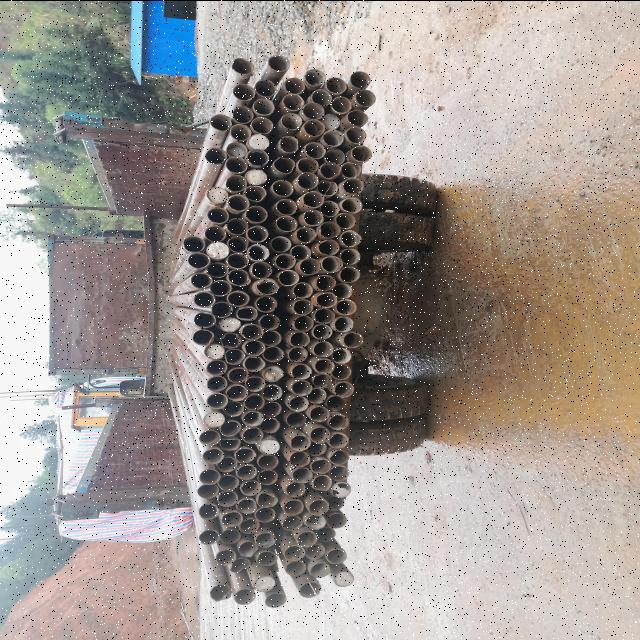pipe: (297, 578, 322, 598), (208, 112, 232, 132), (250, 114, 274, 134), (279, 110, 303, 130), (206, 240, 230, 260), (326, 430, 350, 450), (208, 582, 232, 602), (254, 277, 280, 295), (255, 436, 281, 454), (225, 173, 248, 193), (250, 259, 273, 279), (215, 546, 238, 566), (206, 185, 230, 204), (225, 216, 249, 235), (242, 392, 266, 411), (252, 573, 276, 592), (232, 586, 256, 605), (186, 250, 211, 268), (217, 314, 242, 332), (354, 87, 376, 107), (278, 134, 300, 154), (254, 77, 277, 96), (271, 178, 294, 197), (230, 56, 254, 74), (267, 53, 291, 71), (232, 82, 256, 100), (281, 92, 305, 110), (324, 76, 348, 94), (252, 97, 276, 115), (228, 122, 252, 140), (301, 101, 325, 119), (246, 132, 270, 150), (302, 118, 326, 136), (224, 155, 248, 173), (246, 148, 270, 166), (272, 156, 296, 174), (339, 160, 363, 178), (226, 194, 250, 212), (244, 184, 268, 202), (301, 189, 325, 207), (203, 224, 227, 242), (245, 224, 269, 242), (182, 234, 206, 252), (294, 225, 318, 243), (226, 251, 250, 269), (227, 268, 251, 286), (276, 268, 300, 286), (192, 290, 216, 308), (254, 294, 278, 312), (314, 290, 338, 308), (334, 297, 358, 315), (193, 310, 217, 328), (191, 328, 215, 346), (240, 322, 264, 340), (242, 338, 266, 356), (242, 354, 266, 372), (261, 364, 285, 382), (226, 383, 250, 401), (205, 391, 229, 409), (260, 382, 284, 400), (241, 409, 265, 427), (198, 428, 222, 446), (201, 446, 225, 464), (198, 467, 222, 485), (239, 478, 263, 496), (256, 490, 280, 508), (220, 509, 244, 527), (228, 555, 252, 573), (255, 548, 279, 566), (282, 542, 306, 560), (284, 558, 308, 576), (263, 590, 287, 608), (316, 238, 341, 255), (284, 75, 306, 94), (304, 140, 326, 159), (303, 68, 326, 86), (205, 146, 228, 164), (225, 140, 248, 158), (296, 171, 319, 189), (342, 176, 365, 194), (316, 178, 339, 196), (275, 197, 298, 215), (245, 204, 268, 222), (302, 208, 325, 226), (226, 234, 249, 252), (269, 234, 292, 252), (247, 242, 270, 260), (339, 247, 362, 265), (190, 271, 213, 289), (274, 252, 297, 270), (227, 288, 250, 306), (313, 306, 336, 324), (210, 300, 233, 318), (258, 312, 281, 330), (203, 341, 226, 359), (223, 346, 246, 364), (205, 358, 228, 376), (332, 380, 355, 398), (202, 409, 225, 427), (222, 398, 245, 416), (219, 418, 242, 436), (241, 426, 264, 444), (234, 445, 257, 463), (288, 450, 311, 468), (217, 473, 240, 491), (282, 497, 305, 515), (235, 496, 258, 514), (197, 527, 220, 545), (219, 526, 242, 544), (244, 168, 268, 185), (206, 206, 230, 223), (288, 243, 312, 260), (234, 304, 258, 321), (349, 70, 371, 88), (310, 88, 332, 106), (330, 95, 352, 113), (232, 105, 254, 123), (346, 108, 368, 126), (318, 112, 340, 130), (322, 128, 344, 146), (350, 144, 372, 162), (319, 161, 341, 179), (340, 195, 362, 213), (318, 199, 340, 217), (334, 211, 356, 229), (319, 220, 341, 238), (276, 214, 298, 232), (340, 228, 362, 246), (339, 264, 361, 282), (299, 256, 321, 274), (210, 278, 232, 296), (292, 314, 314, 332), (333, 314, 355, 332), (342, 330, 364, 348), (312, 339, 334, 357), (262, 344, 284, 362), (330, 362, 352, 380), (227, 365, 249, 383), (290, 361, 312, 379), (206, 374, 228, 392), (244, 374, 266, 392), (260, 400, 282, 418), (309, 425, 331, 443), (290, 433, 312, 451), (310, 456, 332, 474), (257, 468, 279, 486), (311, 474, 333, 492), (330, 480, 352, 498), (304, 512, 326, 530), (198, 502, 220, 520), (238, 516, 260, 534), (254, 529, 276, 547), (304, 542, 326, 560), (326, 546, 348, 564), (308, 560, 330, 578), (321, 255, 344, 272), (327, 464, 350, 481), (217, 489, 240, 506), (290, 378, 314, 394), (218, 434, 242, 450), (196, 482, 220, 498), (295, 530, 319, 546), (293, 280, 314, 298), (306, 386, 327, 404), (334, 569, 355, 587), (323, 147, 345, 164), (296, 156, 318, 173), (206, 260, 228, 277), (220, 331, 242, 348), (288, 330, 310, 347), (325, 394, 347, 411), (260, 416, 282, 433), (328, 448, 350, 465), (216, 455, 238, 472), (292, 466, 314, 483), (285, 480, 307, 497), (326, 511, 348, 528), (291, 298, 314, 314), (311, 323, 334, 339), (285, 411, 308, 427), (305, 440, 328, 456), (235, 463, 258, 479), (253, 506, 276, 522), (281, 514, 304, 530), (346, 125, 366, 143), (332, 346, 352, 364), (327, 414, 351, 429), (314, 274, 336, 290), (332, 282, 354, 298), (260, 329, 282, 345), (287, 346, 309, 362), (314, 358, 336, 374), (312, 372, 334, 388), (288, 395, 310, 411), (308, 406, 330, 422), (257, 453, 279, 469), (308, 498, 330, 514), (324, 494, 346, 510), (314, 526, 336, 542), (236, 540, 258, 556)
